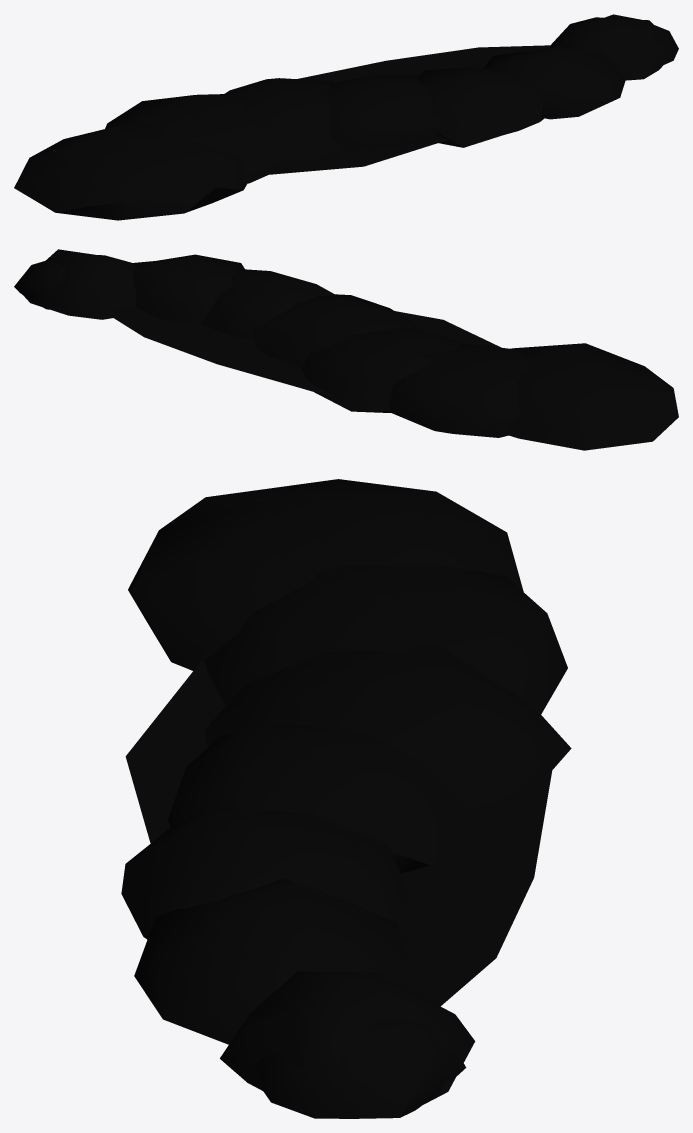
File: CooledFlow.fbx
3 views of the same model, one above another, from view 1: azimuth 30°, elevation 25°; view 2: azimuth 150°, elevation 25°; view 3: azimuth 270°, elevation 25° (orthographic). The views are drawn at different scales.
Visible parts, largest first — view 1: CooledFlow; view 2: CooledFlow; view 3: CooledFlow.
Boxes of the visible parts, x1,y1,x2,y2 form: CooledFlow: [14, 14, 678, 220]; CooledFlow: [14, 249, 678, 450]; CooledFlow: [121, 479, 571, 1118].
Bounding box in the file's own units: 2.45 × 0.1419 × 0.7475.
Materials: 2 (2 with a texture image).
